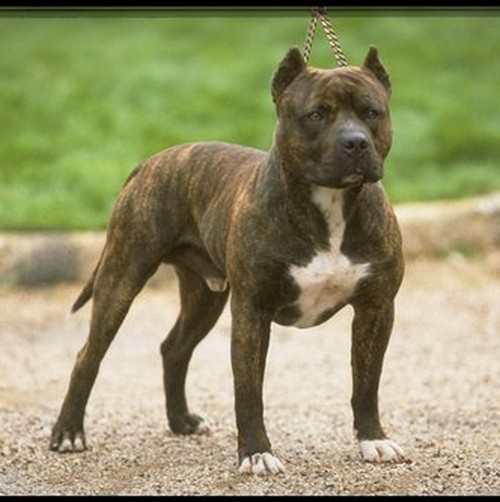am_pit_bull_terrier: (48, 43, 406, 474)
